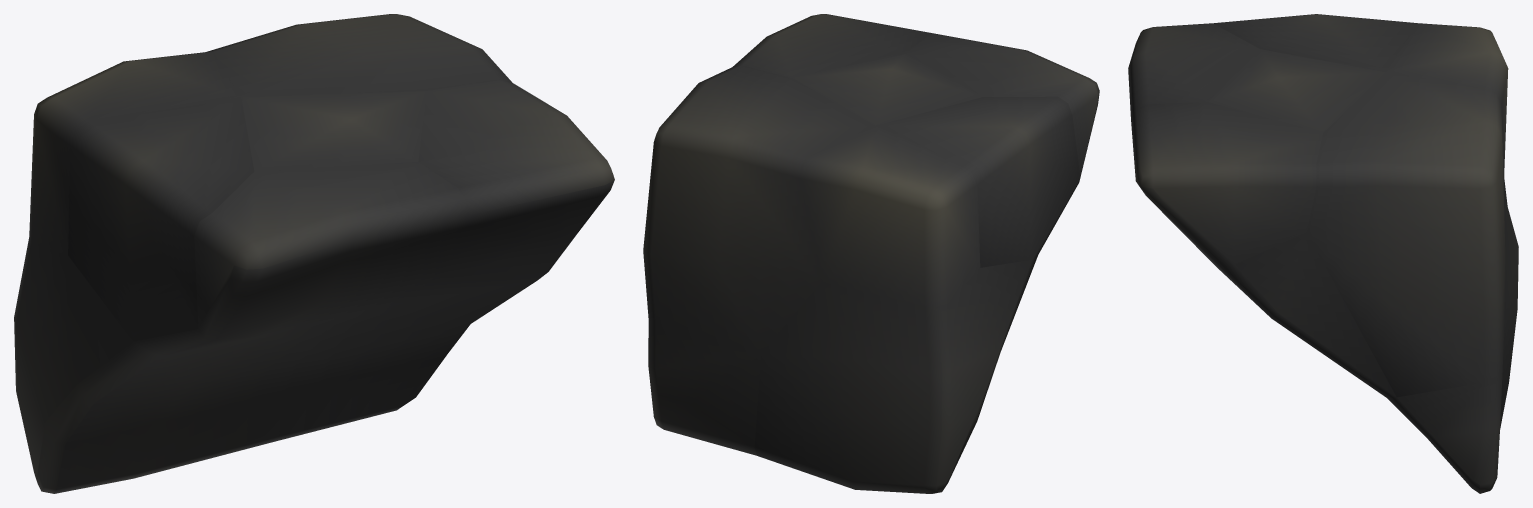
The model's file is Rock_SlopeUnder.fbx.
3 views of the same model, side by side, from view 1: azimuth 30°, elevation 25°; view 2: azimuth 150°, elevation 25°; view 3: azimuth 270°, elevation 25° (orthographic). The views are drawn at different scales.
Visible parts, largest first — view 1: Rock_SlopeUnder_LOD0; view 2: Rock_SlopeUnder_LOD0; view 3: Rock_SlopeUnder_LOD0.
Part boxes in pixels (bbox=[...]): Rock_SlopeUnder_LOD0: bbox=[14, 14, 614, 493]; Rock_SlopeUnder_LOD0: bbox=[643, 14, 1099, 493]; Rock_SlopeUnder_LOD0: bbox=[1128, 14, 1518, 493].
Size of what is drawn, in the model's own units: 1.13 by 1.14 by 1.13.
